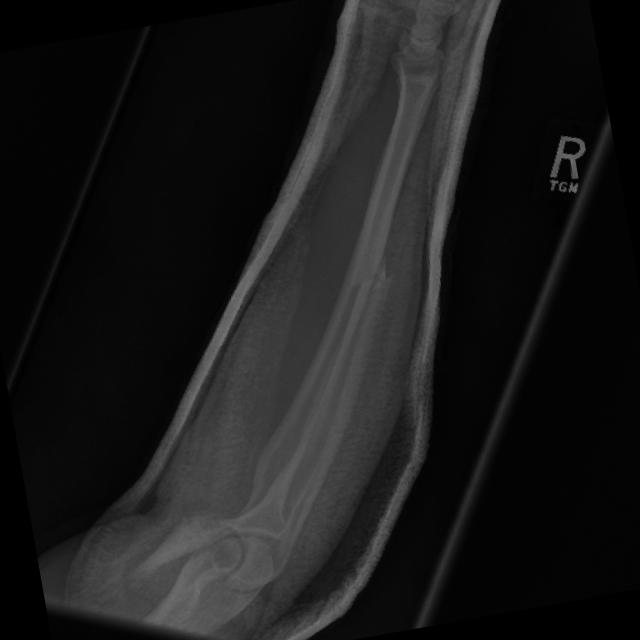forearm fracture: (315, 214, 423, 349)
